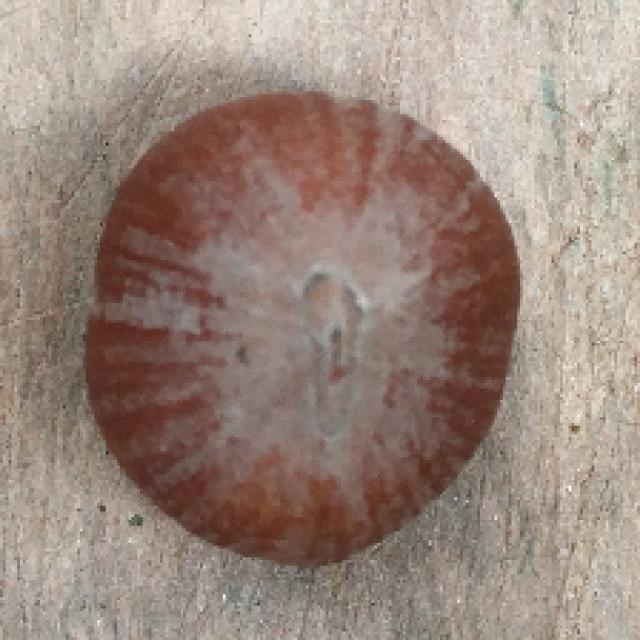qualityHazelnut: (77, 84, 534, 576)
